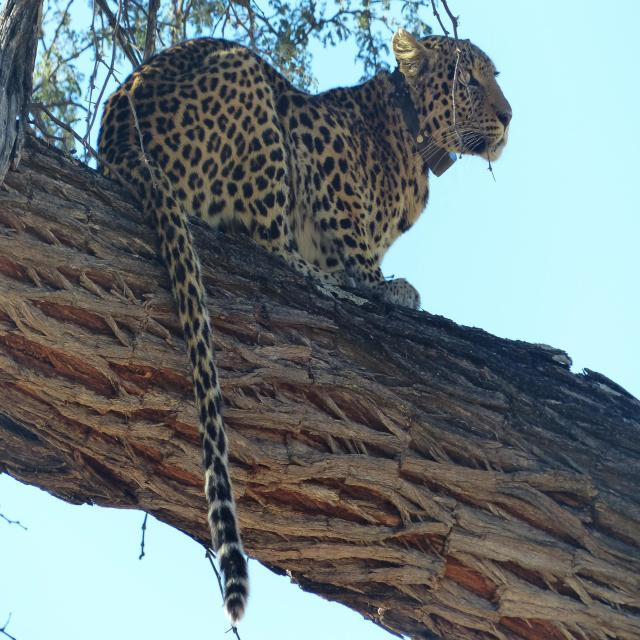Leopard: (67, 0, 552, 640)
